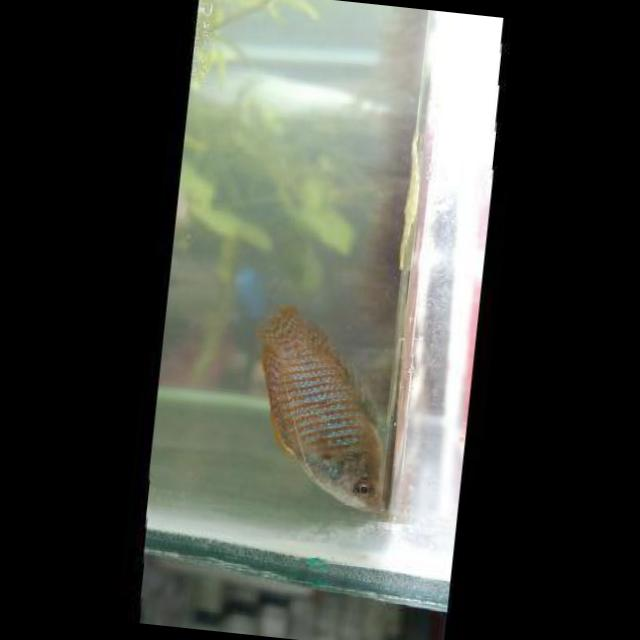Gourami: (238, 298, 402, 512)
